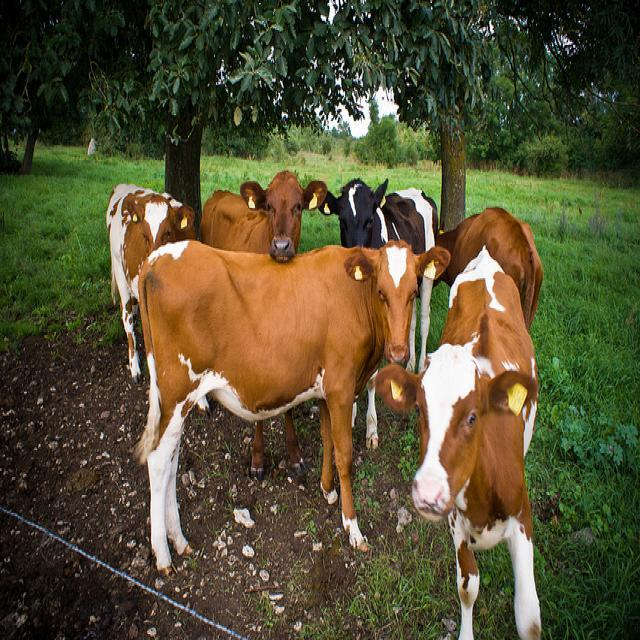cow: (136, 239, 449, 579), (367, 248, 540, 628), (196, 167, 328, 474), (317, 177, 438, 370), (105, 180, 199, 385), (431, 205, 542, 329)
